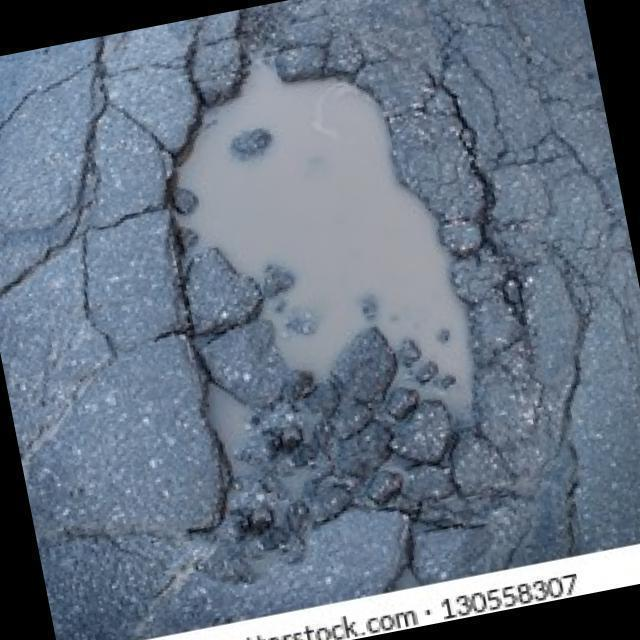pothole: (127, 5, 520, 572)
